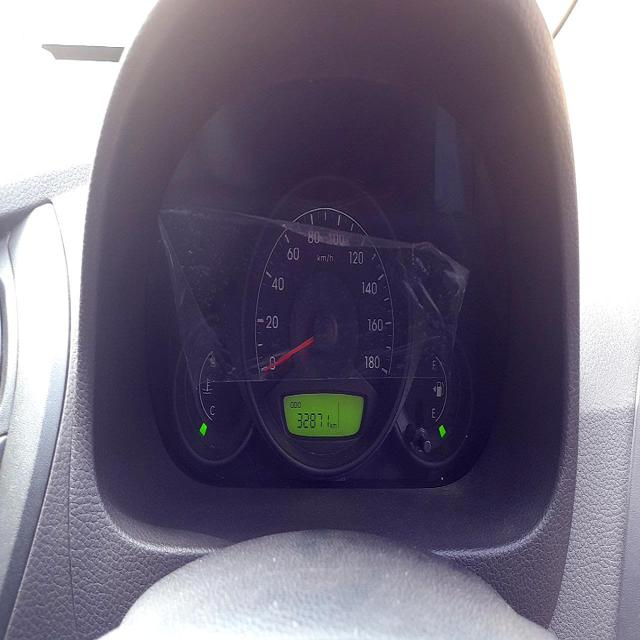odometer: (296, 409, 330, 431)
